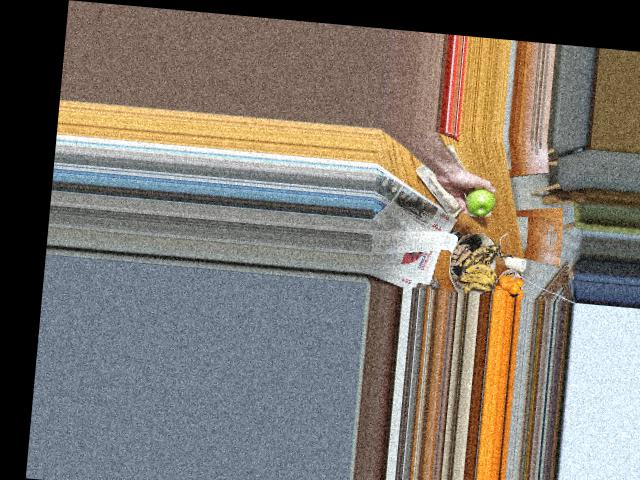apple: (461, 184, 498, 219)
